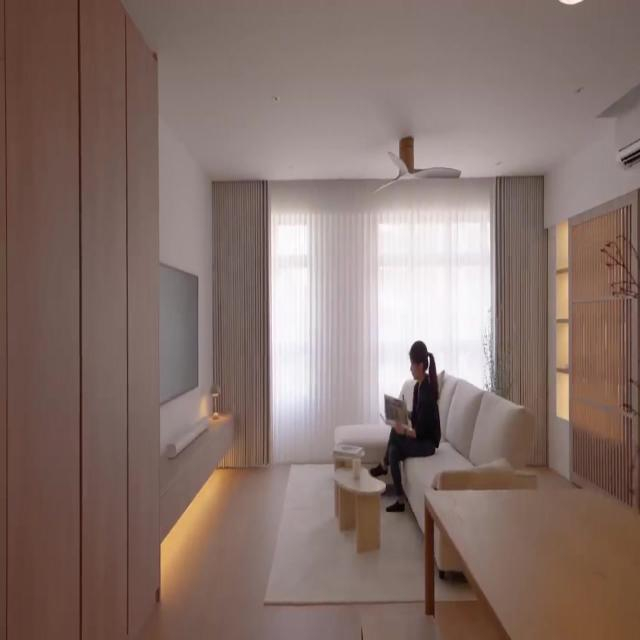obstacle: (1, 0, 160, 639), (333, 368, 536, 578)
person: (369, 340, 441, 512)
